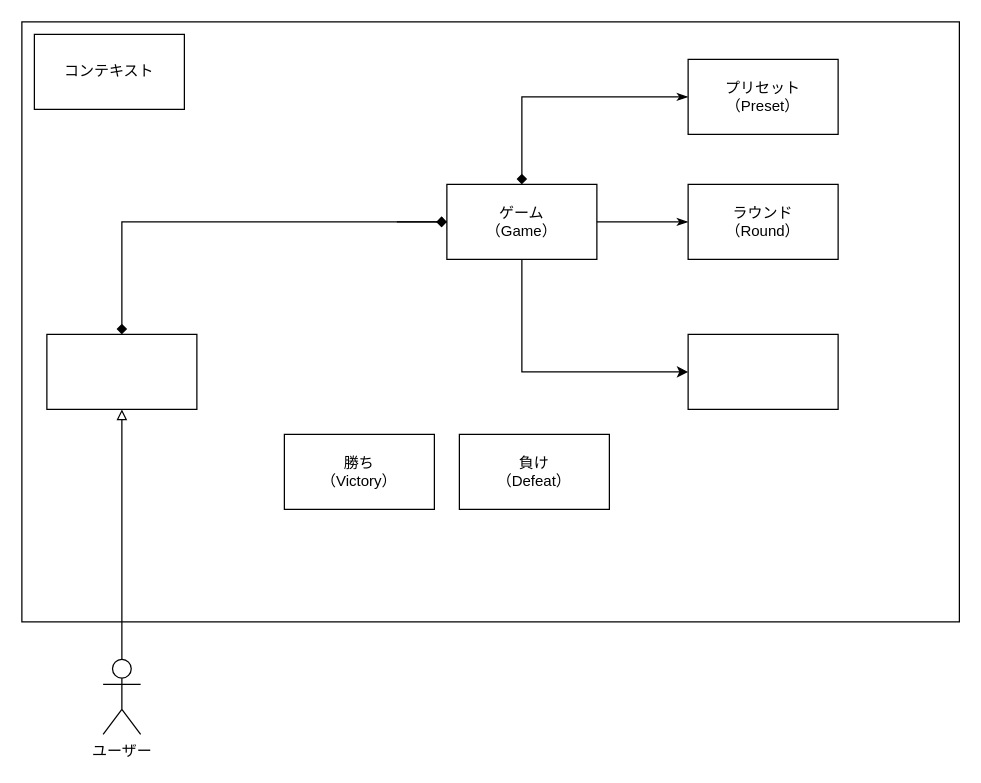
Some shapes in this 981 by 783 pixel diagram are drawn without their labels. The box of each missing label's shape, as (x1, y1, x2, y2) in pixels:
ベット （Bet）: (687, 333, 838, 409)
ユーザー （User）: (46, 333, 197, 409)
